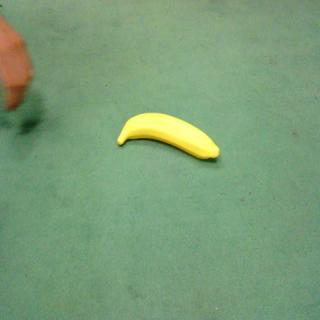banana: (115, 107, 223, 170)
